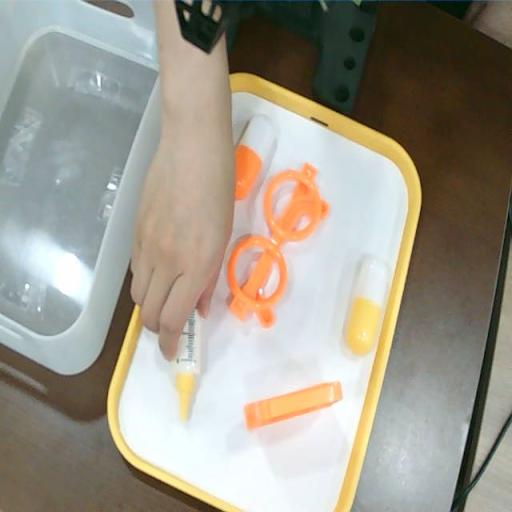hospital: (132, 112, 235, 362)
